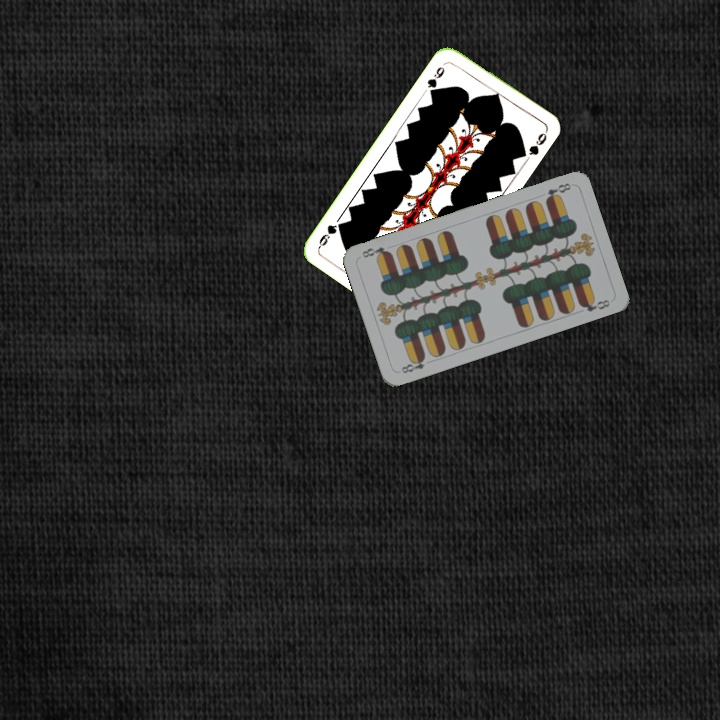E8: (397, 352, 435, 376), (541, 179, 574, 204)
G9: (423, 58, 449, 97)
